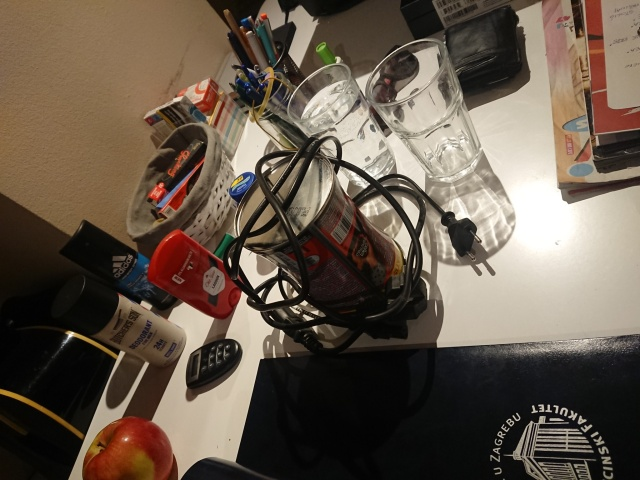Nescafe Classic 225g: (230, 148, 412, 328)
